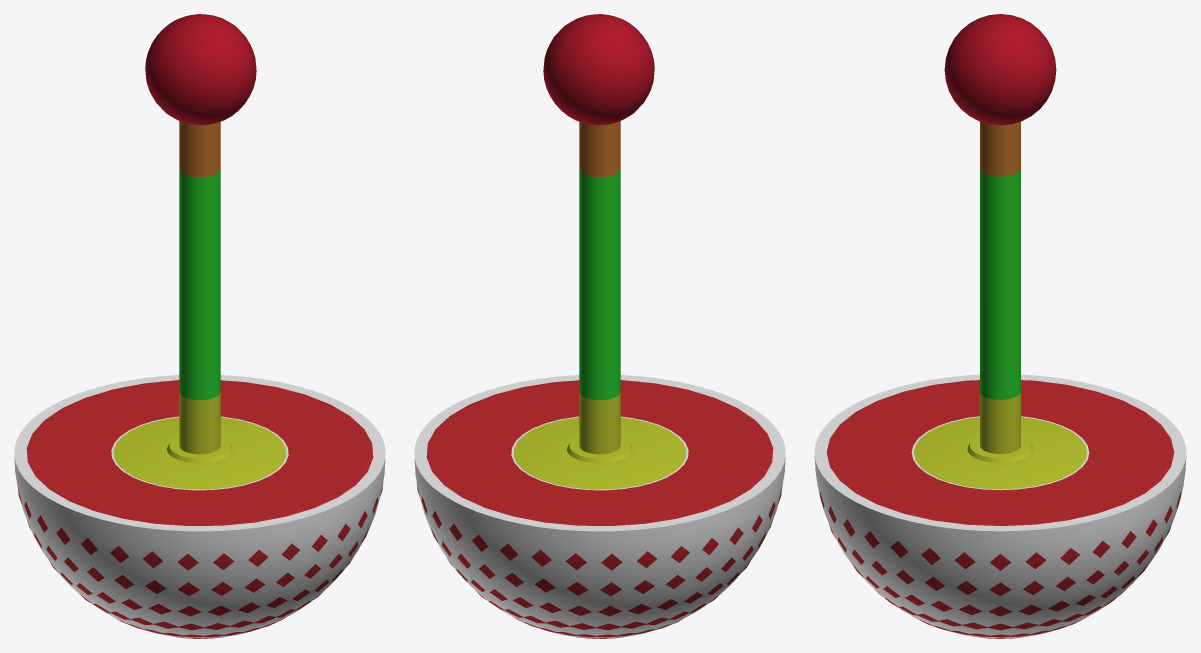
The model's file is Tumbler.fbx.
3 renders of one model, left to right at view 1: azimuth 30°, elevation 25°; view 2: azimuth 150°, elevation 25°; view 3: azimuth 270°, elevation 25°, orthographic.
Visible parts, largest first — view 1: TumblerBase, SphereColider, PipeEndBall, PipePart, PipeStart, PipeEnd; view 2: TumblerBase, SphereColider, PipeEndBall, PipePart, PipeStart, PipeEnd; view 3: TumblerBase, SphereColider, PipeEndBall, PipePart, PipeStart, PipeEnd.
Boxes of the visible parts, x1=… form: TumblerBase: x1=18, y1=380, x2=383, y2=638; SphereColider: x1=14, y1=375, x2=385, y2=638; PipeEndBall: x1=145, y1=14, x2=256, y2=125; PipePart: x1=179, y1=168, x2=220, y2=400; PipeStart: x1=179, y1=391, x2=220, y2=454; PipeEnd: x1=179, y1=121, x2=220, y2=176; TumblerBase: x1=416, y1=380, x2=781, y2=638; SphereColider: x1=414, y1=375, x2=785, y2=638; PipeEndBall: x1=543, y1=14, x2=654, y2=125; PipePart: x1=579, y1=168, x2=620, y2=400; PipeStart: x1=579, y1=391, x2=620, y2=454; PipeEnd: x1=579, y1=121, x2=620, y2=176; TumblerBase: x1=817, y1=380, x2=1183, y2=638; SphereColider: x1=814, y1=374, x2=1186, y2=638; PipeEndBall: x1=944, y1=14, x2=1056, y2=125; PipePart: x1=980, y1=169, x2=1020, y2=399; PipeStart: x1=980, y1=392, x2=1020, y2=453; PipeEnd: x1=980, y1=121, x2=1020, y2=176.
Size of the model in its own units: 30.2 by 54.01 by 30.2.
